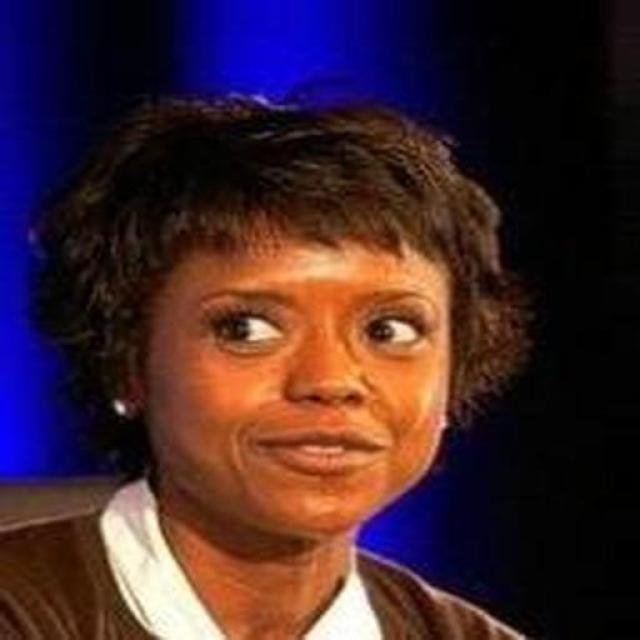bareface: (125, 97, 470, 514)
